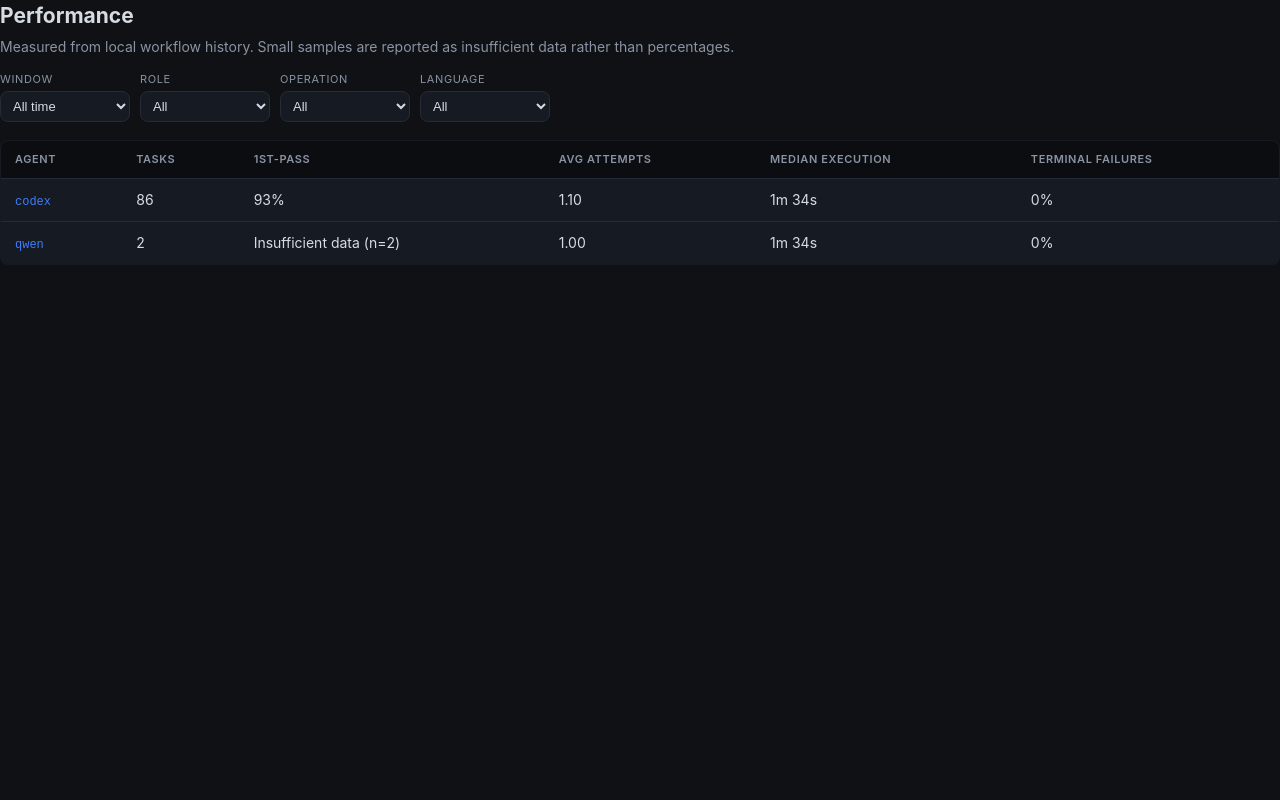
PerformanceView › marks the selected agent row and returns to the overview
The width and height of the screenshot is (1280, 800).
What coordinates should you click on to do the following:
click the text "codex"
I would click on:
 (33, 202)
Its box is [15, 194, 51, 208].
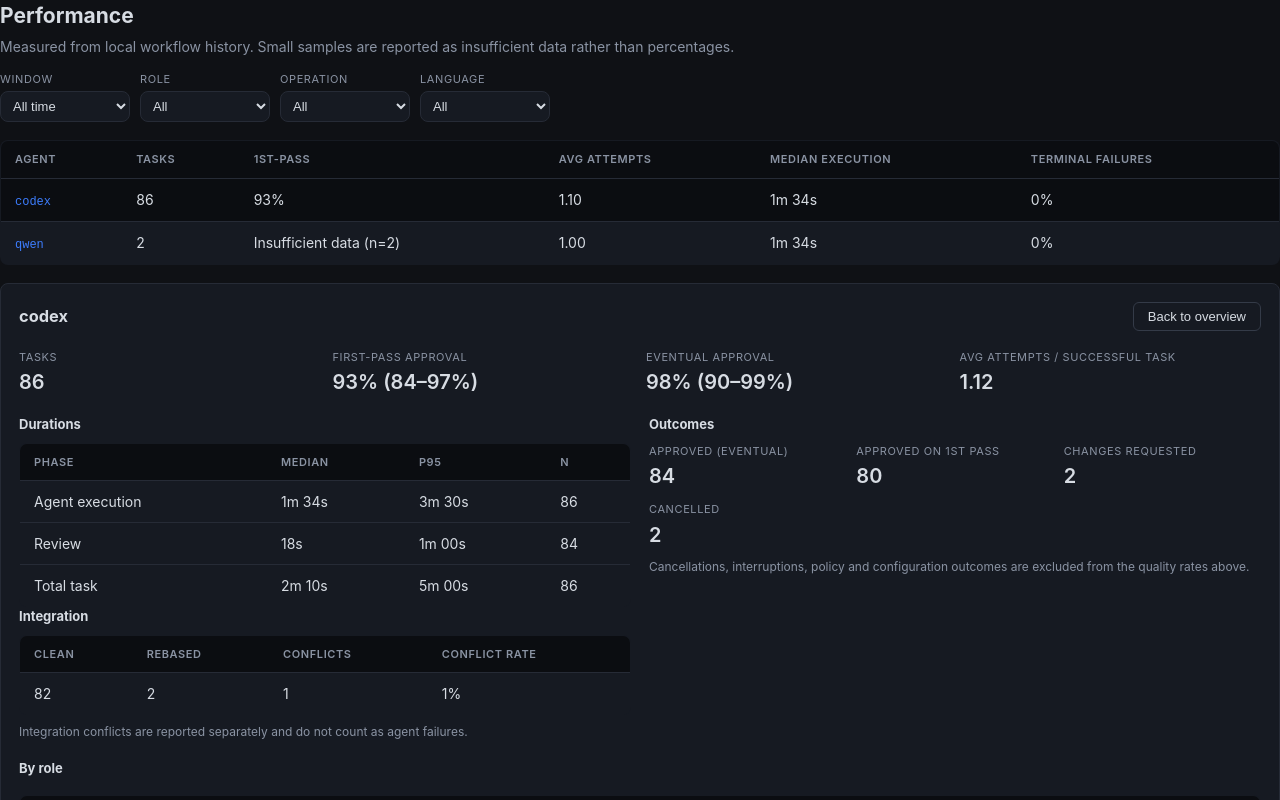
Result: the button "Back to overview" is shown
What coordinates should you click on to do the following:
click the button "Back to overview"
I would click on:
 (1197, 316)
Its box is [1133, 302, 1261, 330].
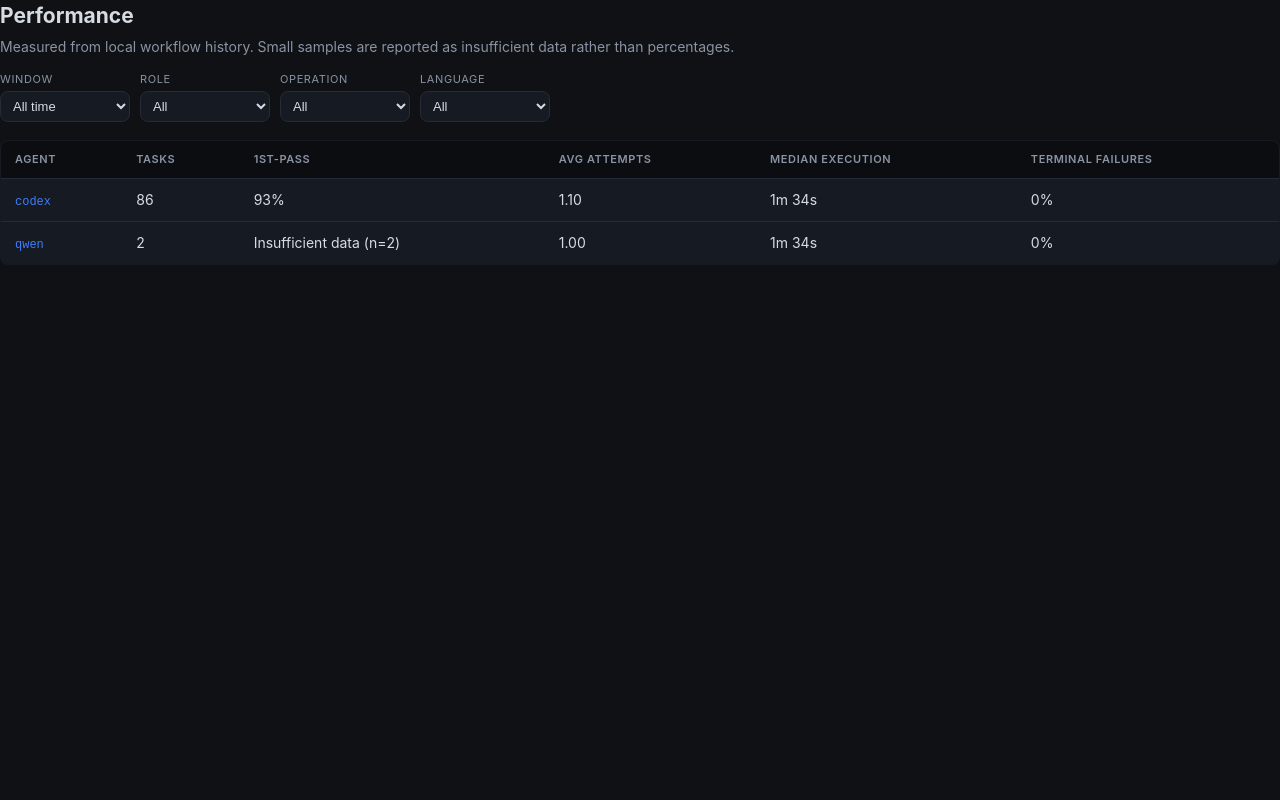
Result: the button "Back to overview" is gone
